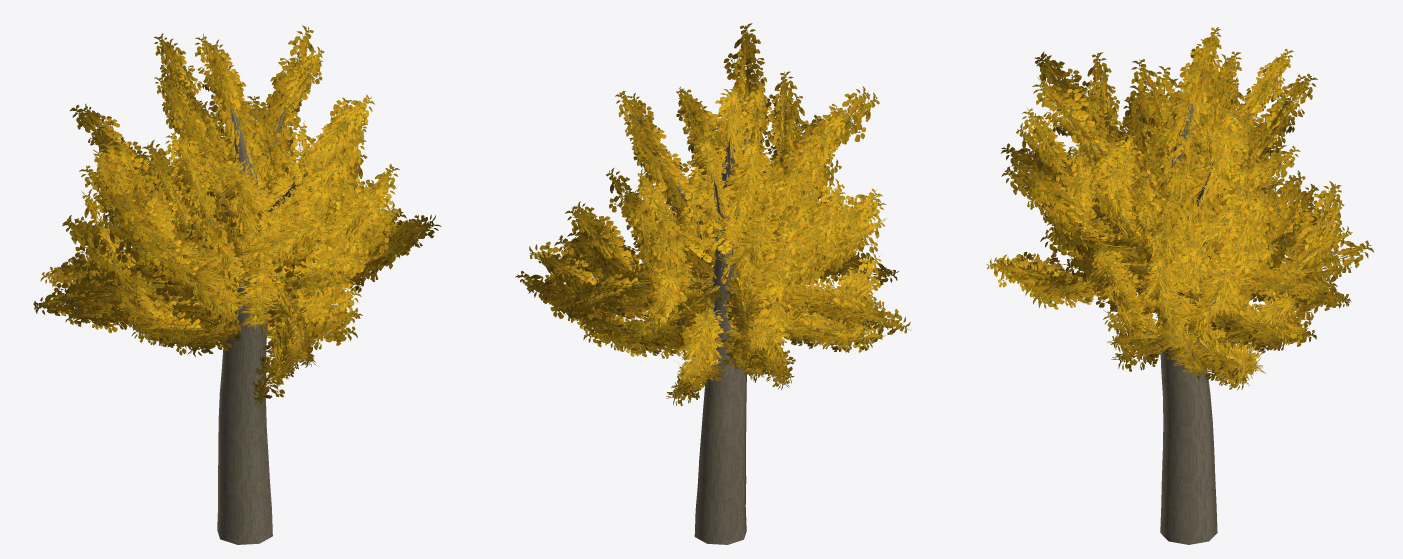
Rendered from tree_LOD0.gltf.
The picture shows the model from 3 angles, left to right: view 1: azimuth 30°, elevation 25°; view 2: azimuth 150°, elevation 25°; view 3: azimuth 270°, elevation 25°; orthographic projection. The views are drawn at different scales.
Visible parts, largest first — view 1: Leaves_LOD0, Branches_LOD0; view 2: Leaves_LOD0, Branches_LOD0; view 3: Leaves_LOD0, Branches_LOD0.
Part boxes in pixels (left/top/right/bottom): Leaves_LOD0: left=33, top=25, right=441, bottom=405; Branches_LOD0: left=173, top=105, right=334, bottom=544; Leaves_LOD0: left=515, top=23, right=910, bottom=405; Branches_LOD0: left=618, top=130, right=798, bottom=544; Leaves_LOD0: left=986, top=27, right=1374, bottom=389; Branches_LOD0: left=1095, top=103, right=1308, bottom=544.
Bounding box in the file's own units: 81.55 × 94.18 × 72.2.
Materials: 2 (2 with a texture image).
